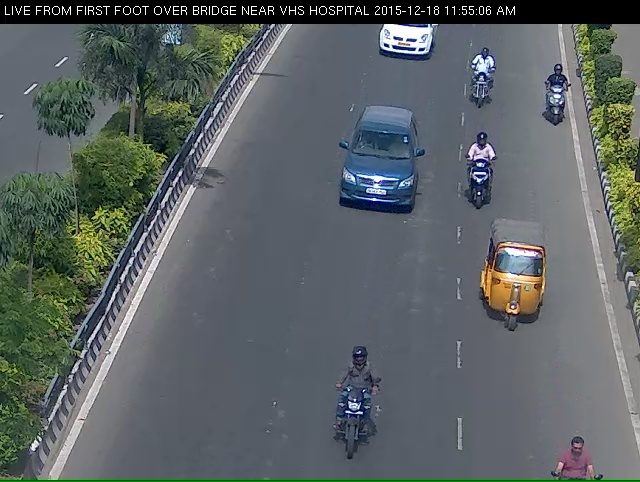Auto: (482, 232, 557, 362)
Car: (332, 120, 427, 234), (363, 18, 446, 81)
Person: (313, 386, 386, 478), (445, 135, 507, 221), (541, 63, 579, 142), (461, 50, 497, 118)
